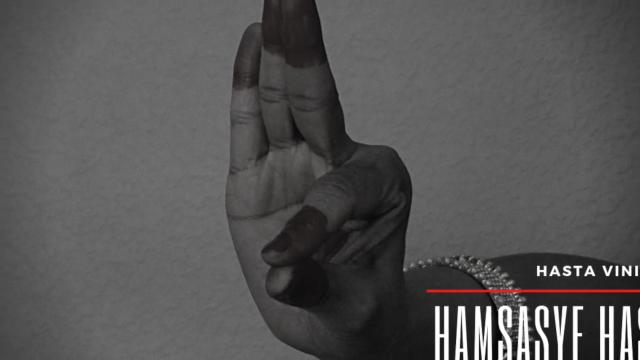hansaasya: (197, 0, 448, 360)
